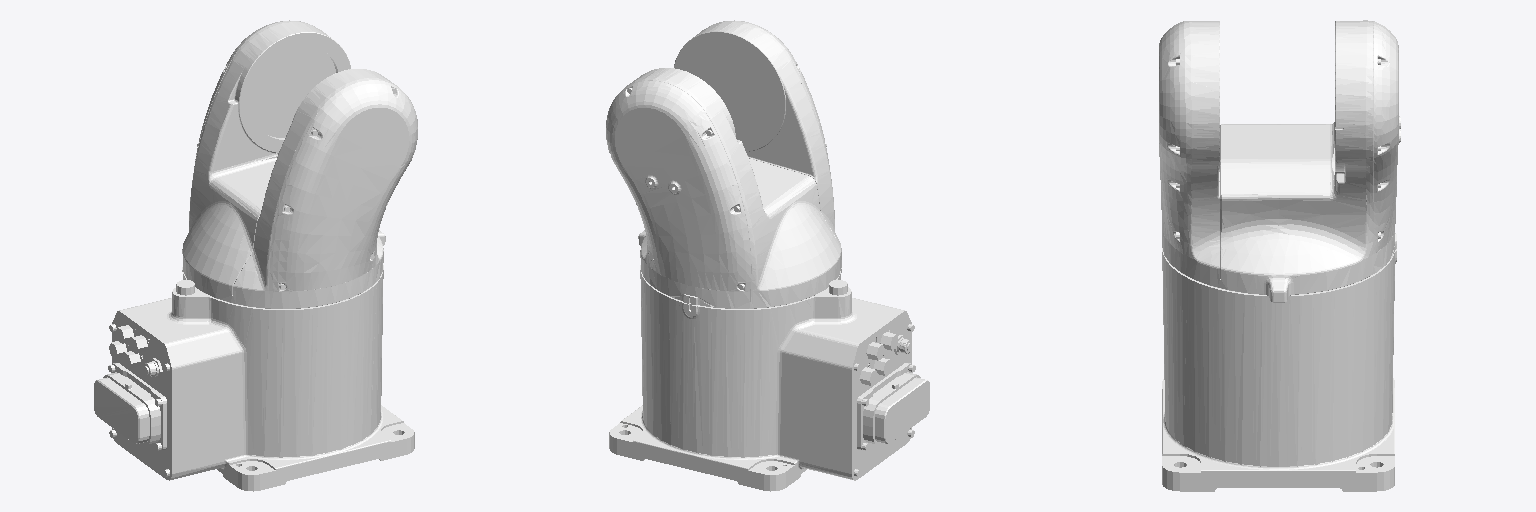
URDF robot description (rokae2):
<robot
  name="rokae2">
  <link
    name="base_link">
    <inertial>
      <origin
        xyz="-0.0247702979705064 8.83157338681262E-06 0.080675751317597"
        rpy="0 0 0" />
      <mass
        value="5.92495775488409" />
      <inertia
        ixx="0"
        ixy="0"
        ixz="0"
        iyy="0"
        iyz="0"
        izz="0" />
    </inertial>
    <visual>
      <origin
        xyz="0 0 0"
        rpy="0 0 0" />
      <geometry>
        <mesh
          filename="package://rokae2/meshes/base_link.STL" />
      </geometry>
      <material
        name="">
        <color
          rgba="1 1 1 1" />
      </material>
    </visual>
    <collision>
      <origin
        xyz="0 0 0"
        rpy="0 0 0" />
      <geometry>
        <mesh
          filename="package://rokae2/meshes/base_link.STL" />
      </geometry>
    </collision>
  </link>
  <link
    name="Link_1">
    <inertial>
      <origin
        xyz="0.0117376385328098 -0.000119823217670591 0.0787224315318975"
        rpy="0 0 0" />
      <mass
        value="3.47774247106277" />
      <inertia
        ixx="0"
        ixy="0"
        ixz="0"
        iyy="0"
        iyz="0"
        izz="0" />
    </inertial>
    <visual>
      <origin
        xyz="0 0 0"
        rpy="0 0 0" />
      <geometry>
        <mesh
          filename="package://rokae2/meshes/Link_1.STL" />
      </geometry>
      <material
        name="">
        <color
          rgba="1 1 1 1" />
      </material>
    </visual>
    <collision>
      <origin
        xyz="0 0 0"
        rpy="0 0 0" />
      <geometry>
        <mesh
          filename="package://rokae2/meshes/Link_1.STL" />
      </geometry>
    </collision>
  </link>
  <joint
    name="Joint_1"
    type="continuous">
    <origin
      xyz="0 0 0.177"
      rpy="0 0 0" />
    <parent
      link="base_link" />
    <child
      link="Link_1" />
    <axis
      xyz="0 0 1" />
  </joint>
</robot>

--- Render facts (derived) ---
Views: 3 orthographic renders of the robot side by side, from view 1: azimuth 30°, elevation 25°; view 2: azimuth 150°, elevation 25°; view 3: azimuth 270°, elevation 25°.
Model rokae2 with 2 links and 1 joints (1 continuous), rooted at base_link, posed every joint at zero.
Visible links, largest first — view 1: Link_1, base_link; view 2: Link_1, base_link; view 3: Link_1, base_link.
Boxes of the visible links, x1,y1,x2,y2 form: Link_1: [182, 20, 417, 308]; base_link: [94, 265, 414, 491]; Link_1: [606, 20, 841, 308]; base_link: [609, 265, 929, 491]; Link_1: [1159, 20, 1400, 302]; base_link: [1162, 248, 1396, 491].
Bounding box of the posed robot: 0.2912 × 0.197 × 0.391 m (x, y, z).
2 mesh visuals loaded from 2 distinct referenced files (2 binary STL).
